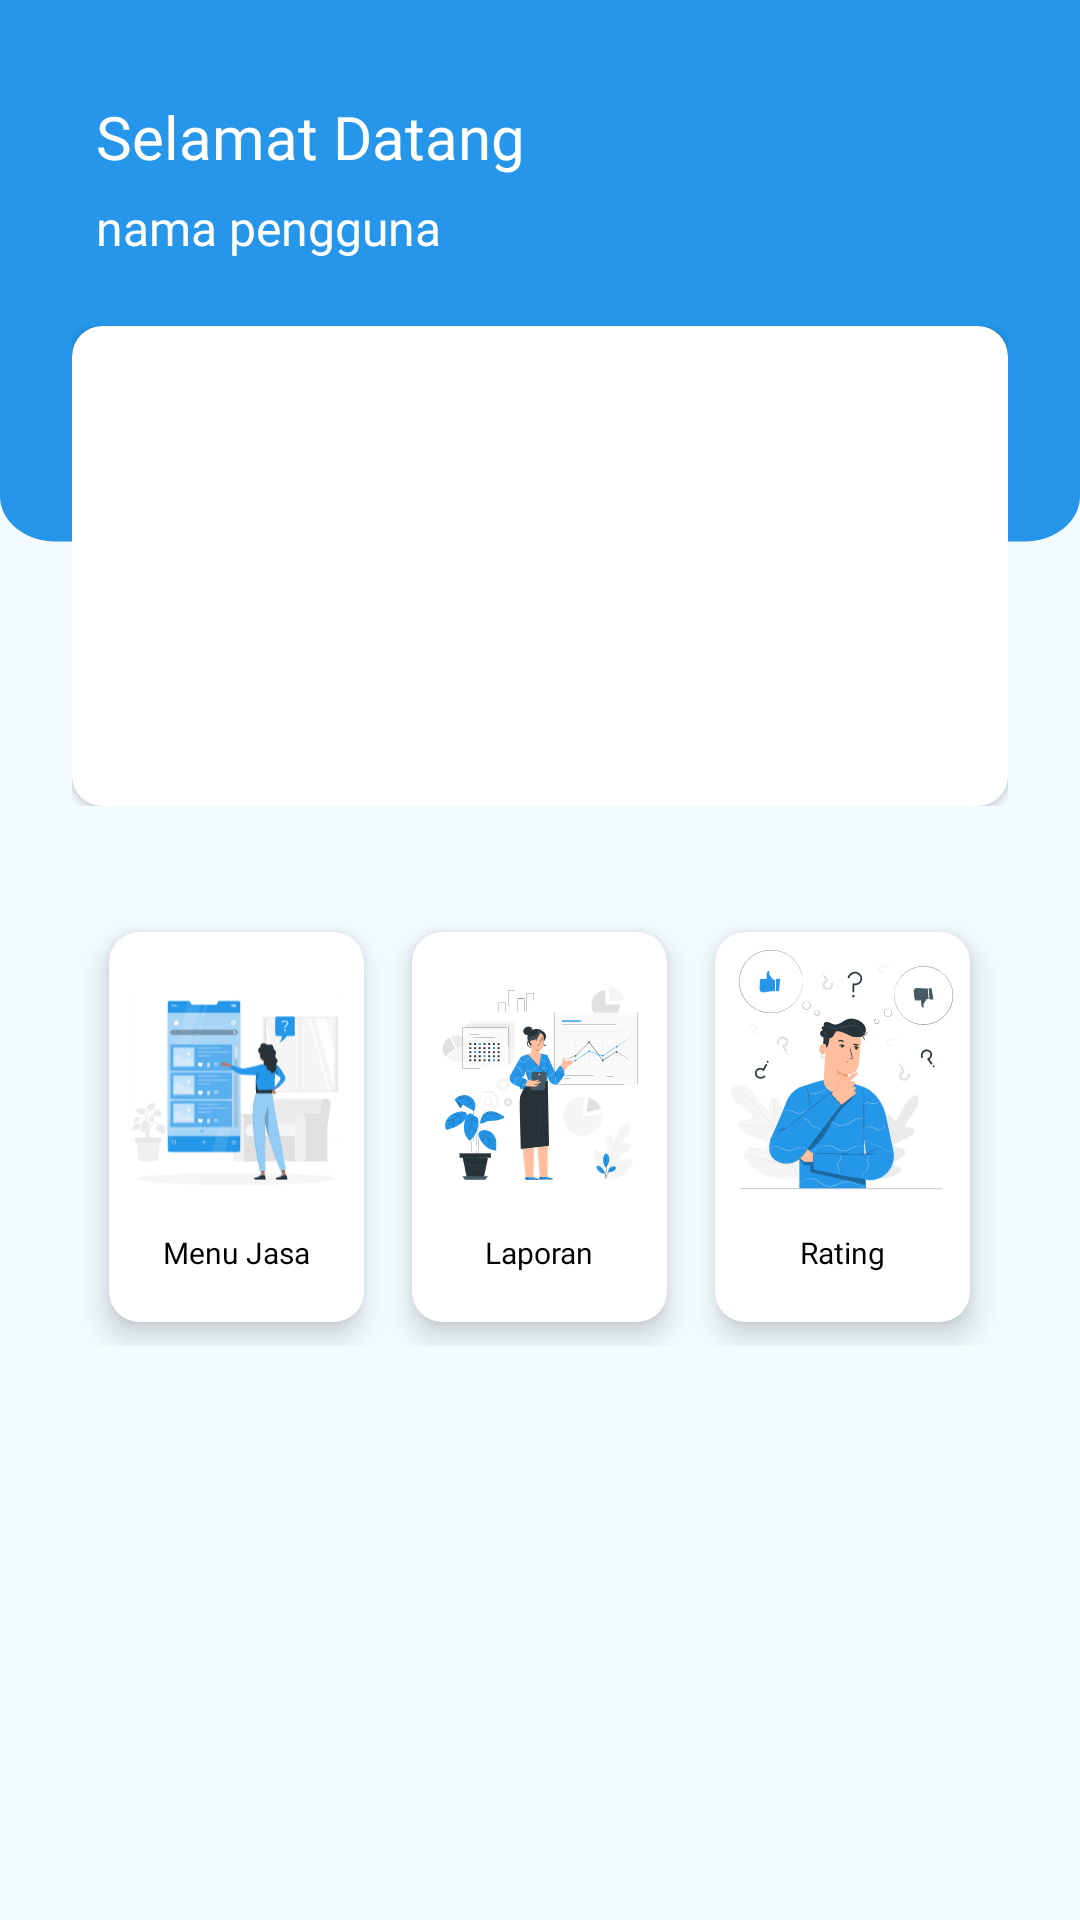

Where to tap for icons on this 1080 × 1920 app screen, as (x,y):
ilustration: (236,1089)
